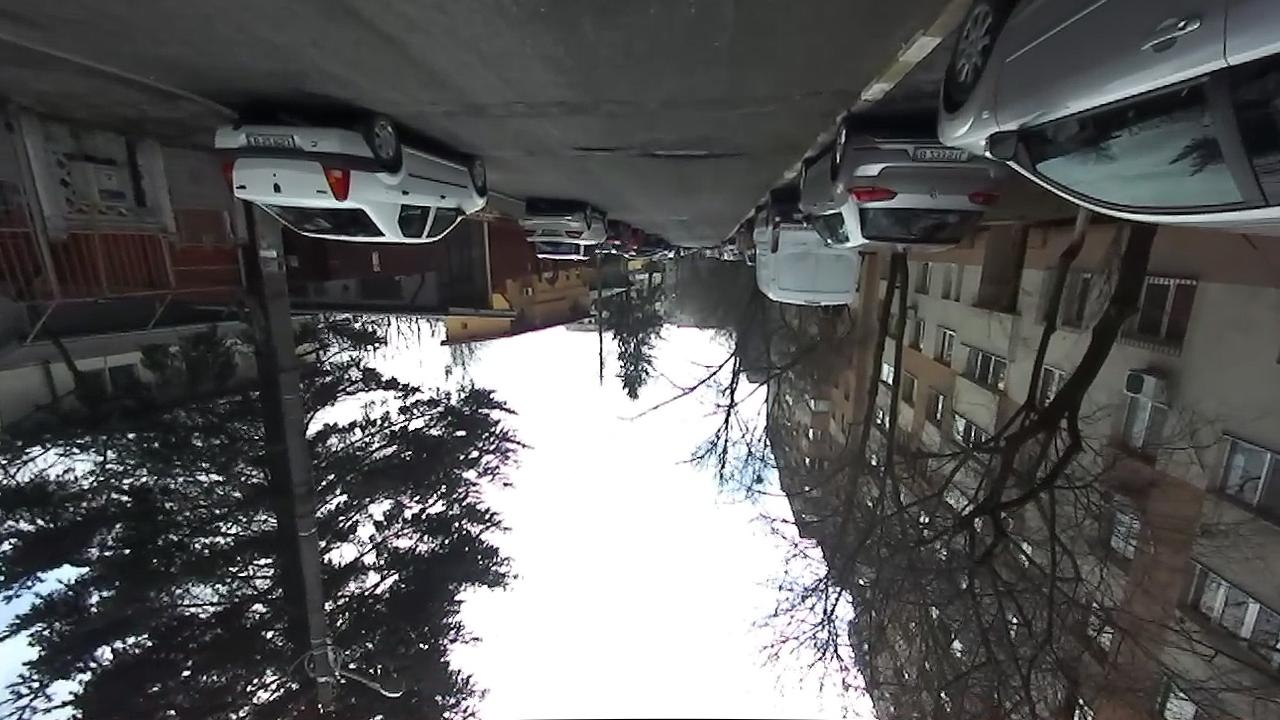pothole: (645, 142, 749, 162), (572, 142, 629, 153)
